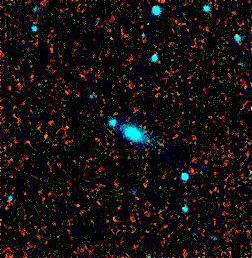star: (131, 130, 161, 160)
